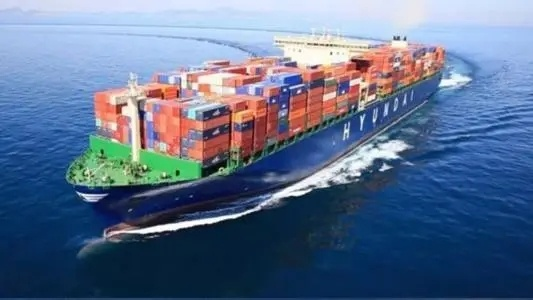Cargoship: (63, 16, 445, 230)
